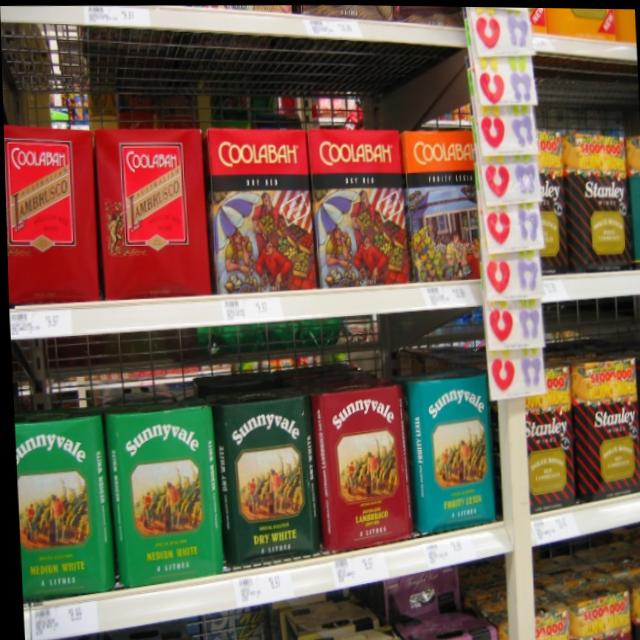q61: (205, 121, 314, 297), (304, 119, 405, 287)
